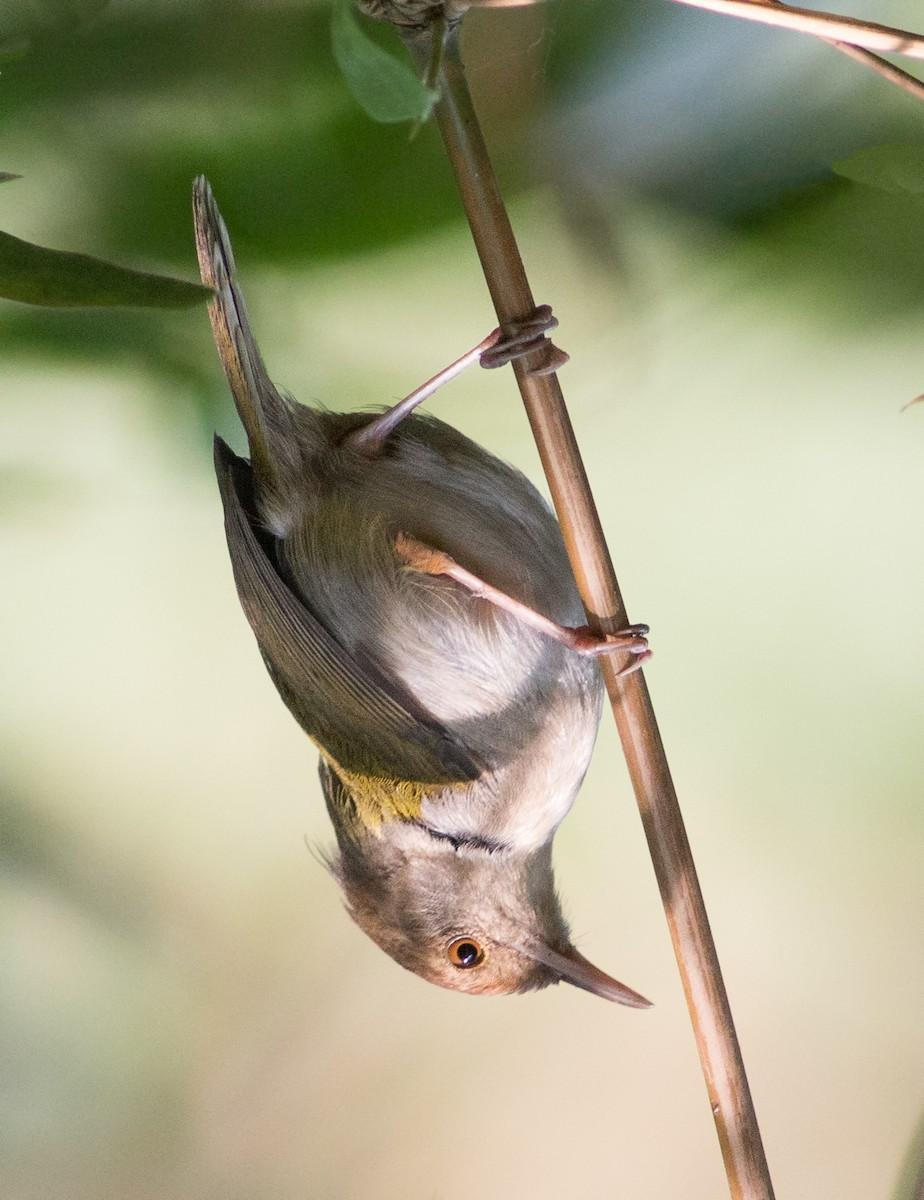tailorbird: (140, 220, 682, 1056)
